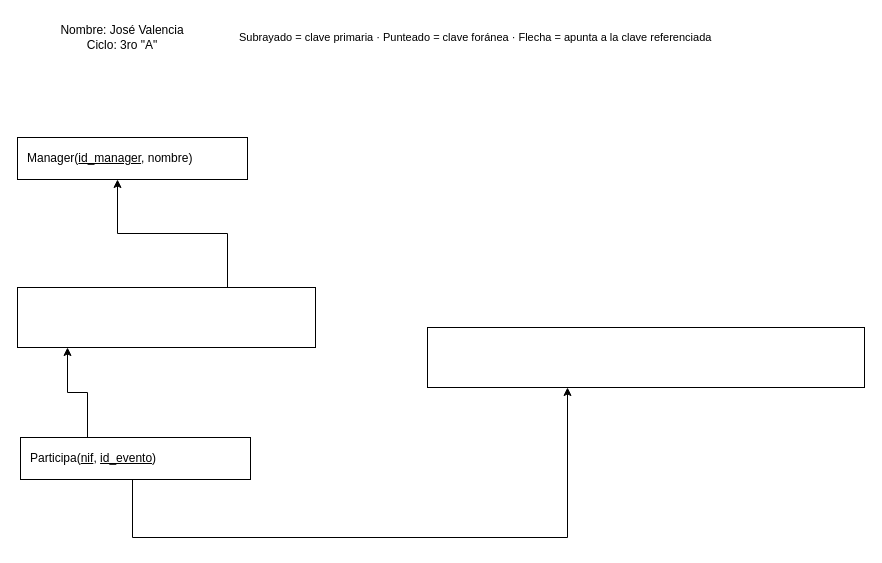
This 882x563 diagram has some shape labels left out. The shapes that lost their labels are listed below. From the top down, each one's centre as x and y in pixels, then its label:
(166,317): Artista( nif , nombre_completo, id_manager )
(645,357): Evento_Promocion( id_evento , fecha_celebracion, num_asistentes)
